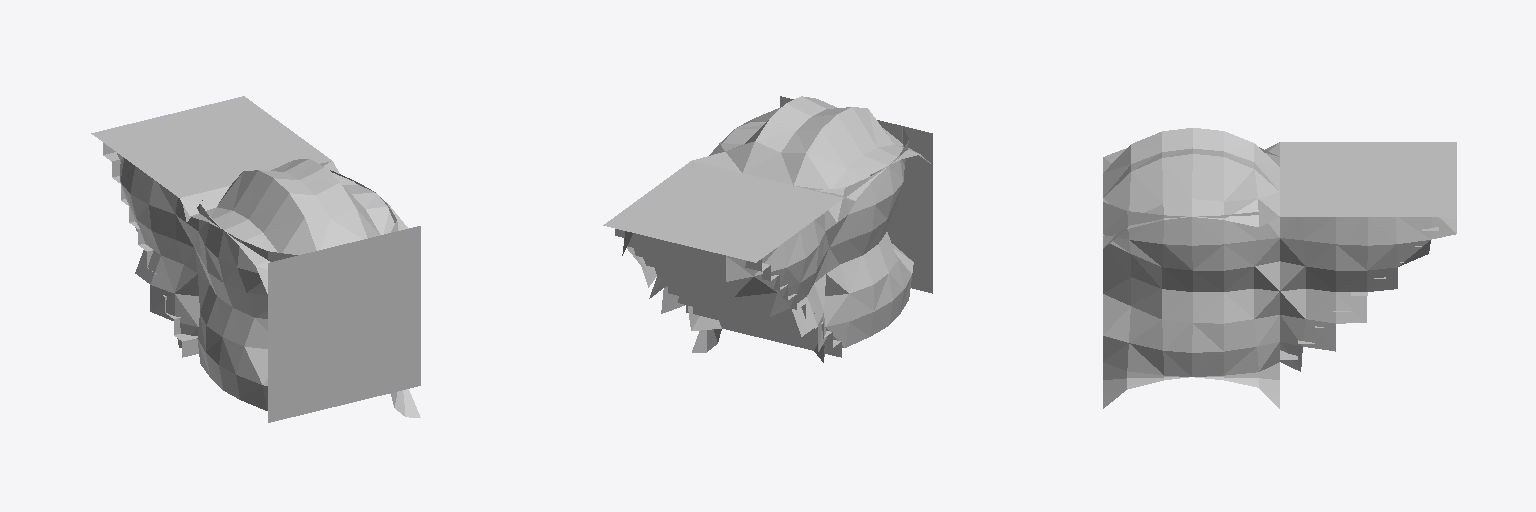
The model's file is cave_stairs_down.obj.
3 renders of one model, left to right at view 1: azimuth 30°, elevation 25°; view 2: azimuth 150°, elevation 25°; view 3: azimuth 270°, elevation 25°, orthographic.
Parts seen in each view (by area): view 1: Plane.004_Plane.009, Plane.003_Plane.008, Cube; view 2: Plane.004_Plane.009, Cube, Plane.003_Plane.008; view 3: Plane.004_Plane.009, Cube.
Part boxes in pixels (x1,y1,x2,y2): Plane.004_Plane.009: (117,153,420,417); Plane.003_Plane.008: (268,226,420,422); Cube: (91,96,331,357); Plane.004_Plane.009: (622,96,930,362); Cube: (603,161,843,357); Plane.003_Plane.008: (780,96,932,293); Plane.004_Plane.009: (1103,128,1456,408); Cube: (1280,142,1456,359).
Size of the model in its own units: 1.07 by 1.45 by 2.